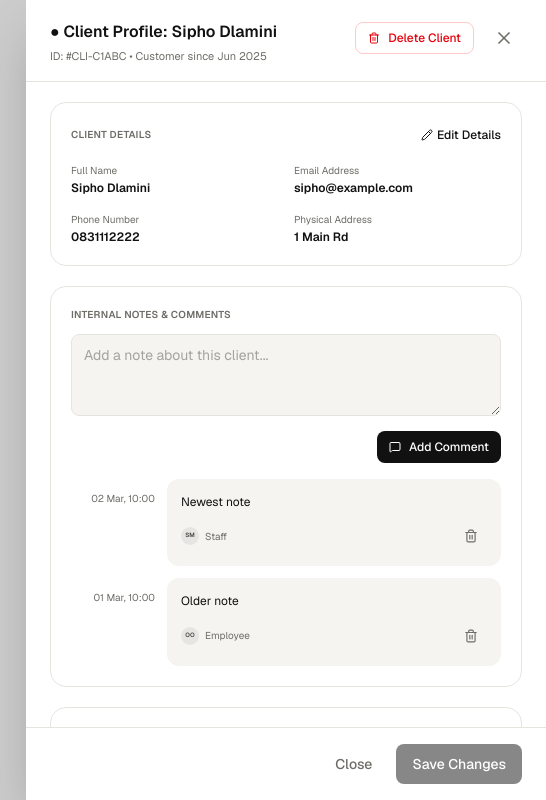
Test: internal notes › explains when the staff profile could not be loaded
This screenshot has width=546, height=800.
Check: the heading "● Client Profile: Sipho Dlamini" is shown, box [50,20,277,44]
Type "hello" into the text box with placeholder "Add a note about this client..." at (286, 374), box [71,334,501,416]
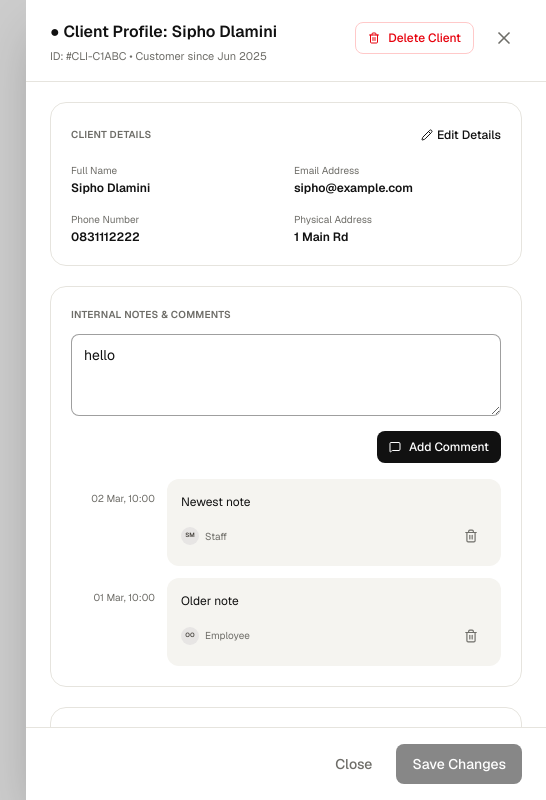
Click the button "Add Comment" at (439, 446), box [377,430,501,462]
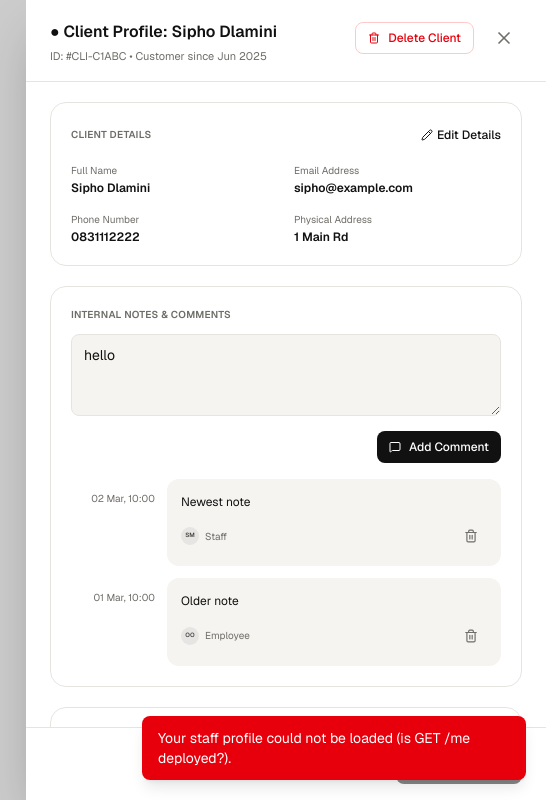
Check: the text "staff profile could not be loaded" is shown, box [158,729,470,767]
